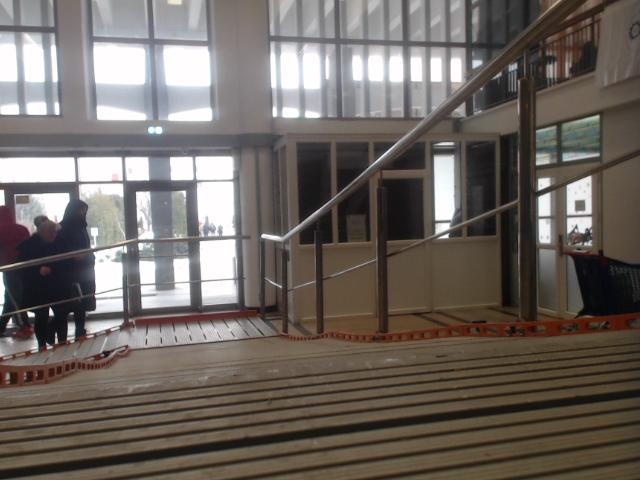rampDown: (0, 317, 639, 479)
ramps-railing: (260, 0, 585, 333), (266, 146, 639, 293), (452, 77, 537, 321), (123, 239, 245, 323), (0, 236, 252, 272), (373, 183, 387, 332), (312, 232, 323, 332)
